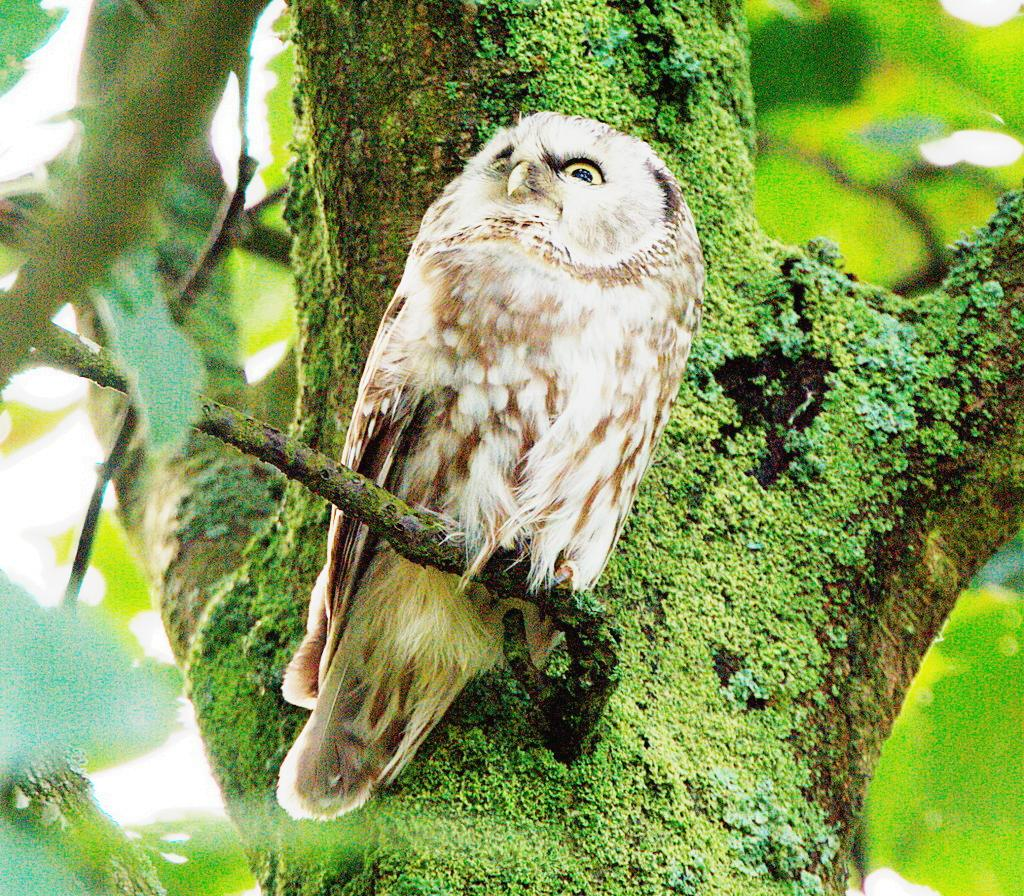Owl: (270, 106, 710, 830)
